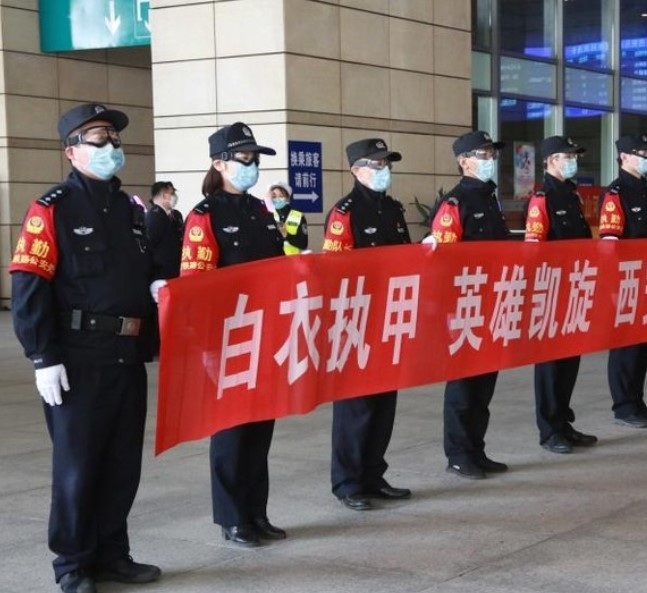face_with_mask: (58, 104, 129, 182), (204, 121, 270, 196), (342, 137, 401, 196), (452, 129, 503, 184), (538, 137, 585, 183), (613, 135, 647, 181), (147, 183, 183, 215), (262, 184, 291, 214)
